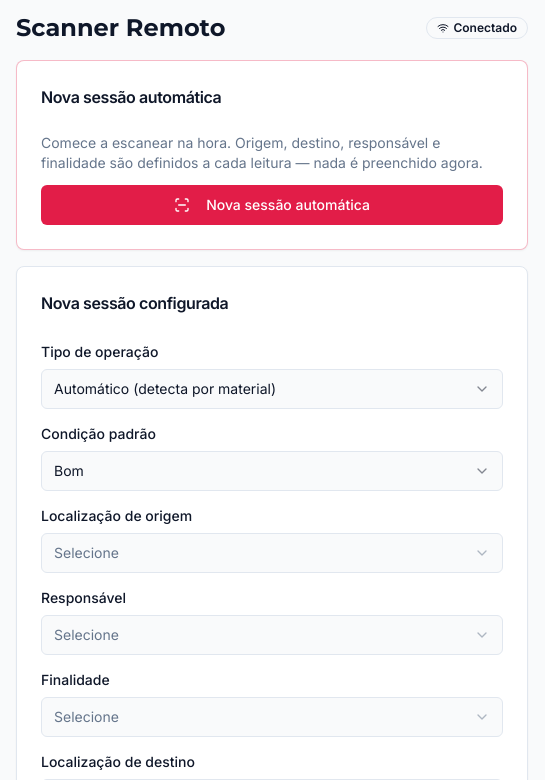
it: ScannerRemoto - Nova sessão automática (E3) › sucesso torna a sessão retornada ativa e pronta para leitura, com botão Finalizar
The width and height of the screenshot is (545, 780).
Click the button "Nova sessão automática". click: coordinates (272, 205)
box: top-left (41, 185), bottom-right (503, 225)
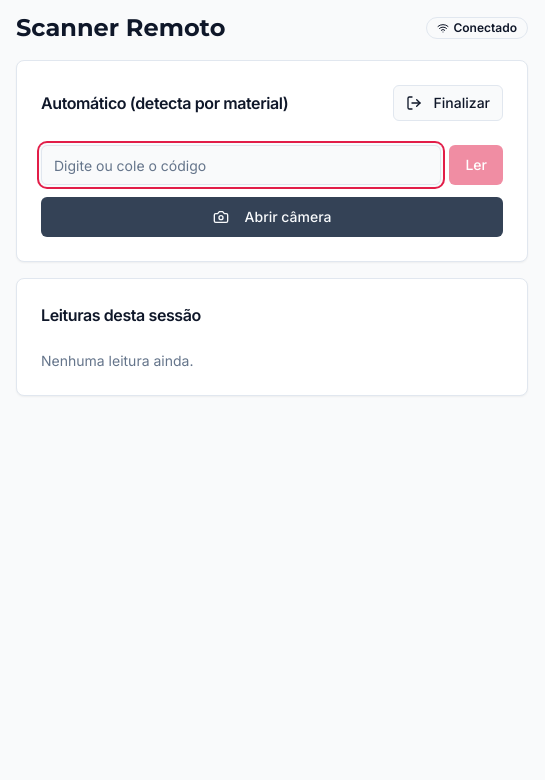
Result: the field with placeholder "Digite ou cole o código" is shown at top-left (41, 145), bottom-right (441, 185)
Result: the button "Abrir câmera" is shown at top-left (41, 197), bottom-right (503, 237)
Result: the button "Finalizar" is shown at top-left (393, 85), bottom-right (503, 121)
